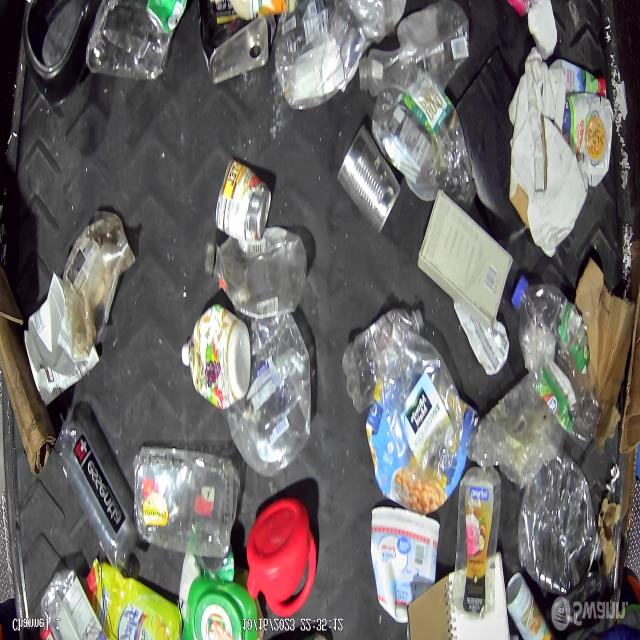can: (338, 123, 403, 232), (214, 156, 272, 243), (145, 0, 190, 36)
milk_jug: (511, 113, 589, 258)
non_white_jug: (246, 496, 317, 618), (182, 304, 251, 407), (90, 564, 184, 639)
plastic_bottle: (513, 277, 601, 448), (228, 313, 313, 480), (274, 1, 396, 111), (369, 79, 475, 200), (516, 452, 602, 596), (132, 445, 241, 558), (63, 421, 137, 573), (358, 0, 471, 99), (205, 224, 310, 318), (342, 308, 424, 416), (452, 465, 502, 622), (85, 0, 172, 83), (40, 569, 107, 640)
